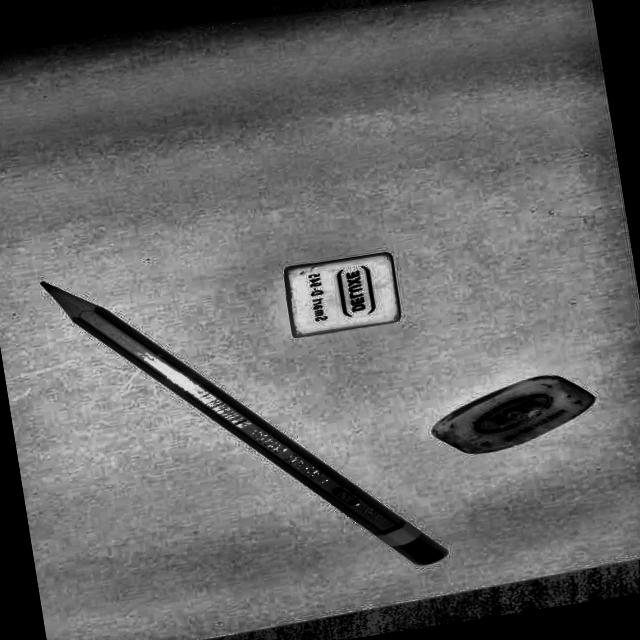eraser: (389, 356, 640, 481), (228, 250, 441, 359)
